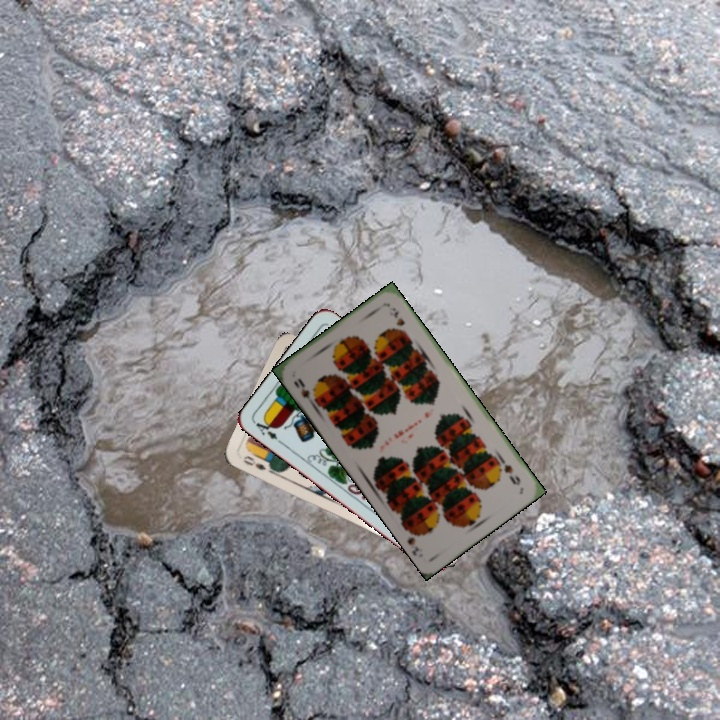EA: (250, 415, 286, 447)
EO: (239, 451, 275, 475)
S9: (290, 374, 320, 408), (494, 454, 523, 488)
